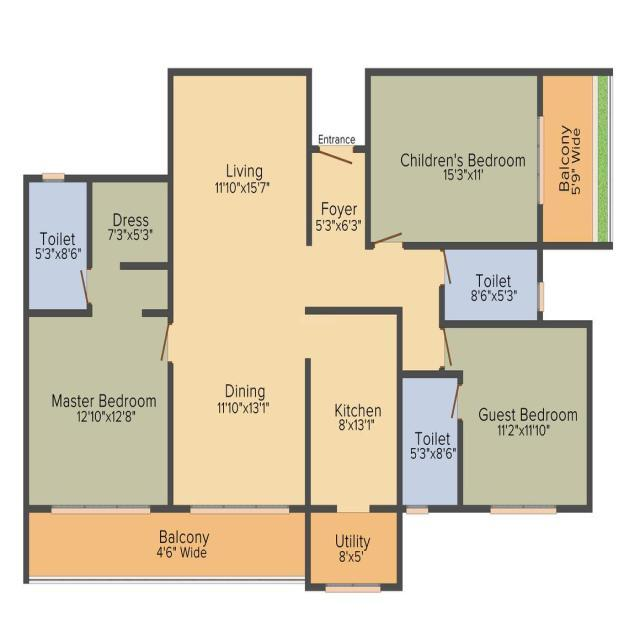Balcony-Sitout: (29, 513, 305, 577), (543, 76, 596, 241)
Bedroom: (370, 76, 537, 243)
Bedroom with Toilet: (26, 177, 171, 508), (400, 325, 589, 507)
Dining: (169, 357, 312, 515)
Dress: (93, 182, 167, 262)
Enterance-Foyer: (312, 131, 365, 244)
Kitchen: (311, 315, 396, 504)
Living: (174, 77, 305, 263)
Toilet: (29, 183, 86, 309), (404, 379, 458, 505), (444, 249, 537, 320)
Utility: (311, 513, 396, 582)
